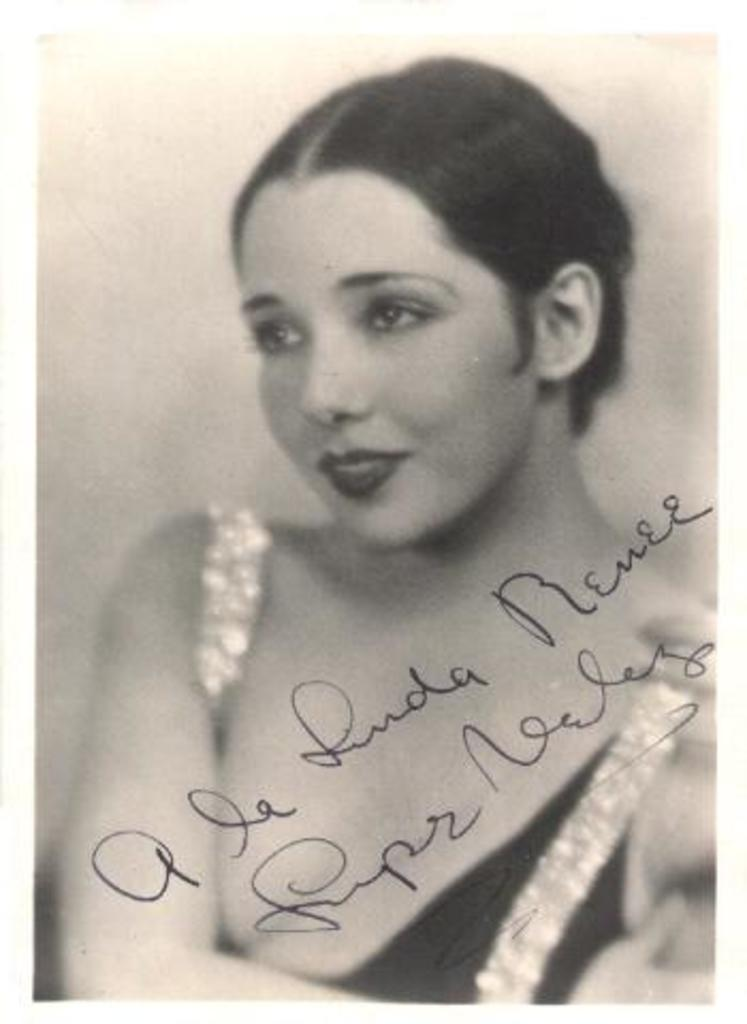face: (241, 153, 494, 552)
